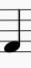note: (3, 5, 21, 56)
